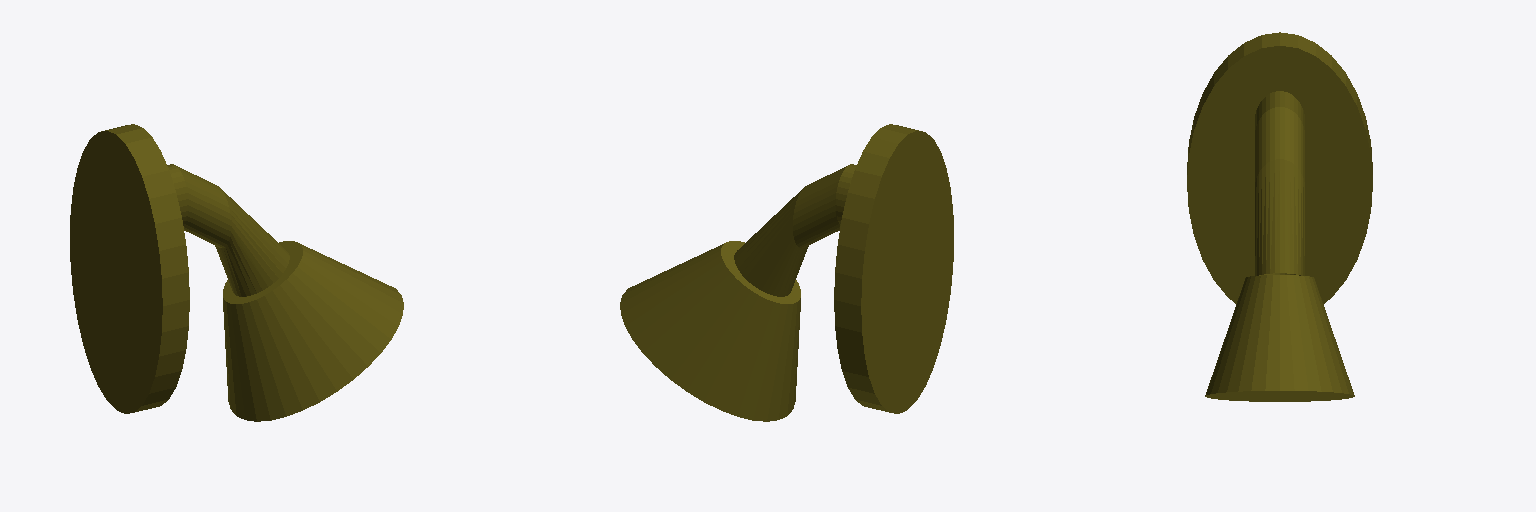
3 renders of one model, left to right at view 1: azimuth 30°, elevation 25°; view 2: azimuth 150°, elevation 25°; view 3: azimuth 270°, elevation 25°, orthographic.
Parts seen in each view (by area): view 1: Cilindro.001; view 2: Cilindro.001; view 3: Cilindro.001.
Part boxes in pixels (left/top/right/bottom): Cilindro.001: left=70, top=124, right=403, bottom=421; Cilindro.001: left=620, top=124, right=953, bottom=421; Cilindro.001: left=1187, top=32, right=1372, bottom=401.
Bounding box in the file's own units: 2.54 × 2.69 × 1.46.
1 materials, 1 textured.